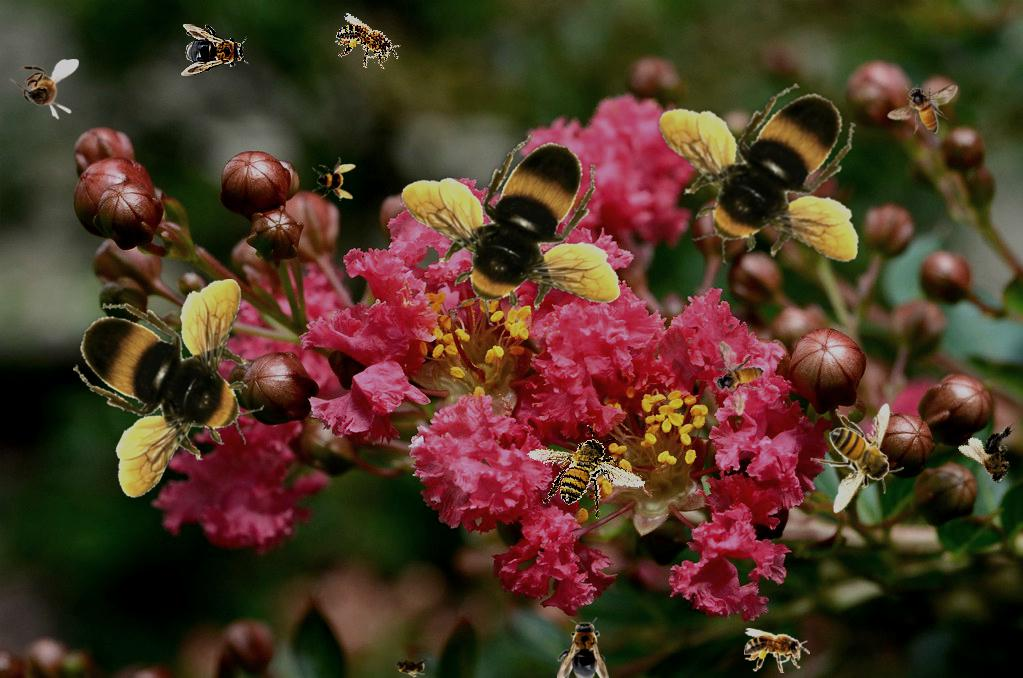Bee: (635, 60, 885, 287), (73, 279, 264, 499), (400, 135, 620, 326), (524, 416, 651, 530), (810, 403, 904, 514), (329, 12, 407, 77), (956, 419, 1023, 493), (707, 340, 769, 419), (9, 59, 79, 120), (887, 84, 958, 134), (181, 24, 249, 76), (557, 617, 609, 678), (744, 628, 810, 673), (312, 157, 356, 201), (388, 652, 432, 678)
